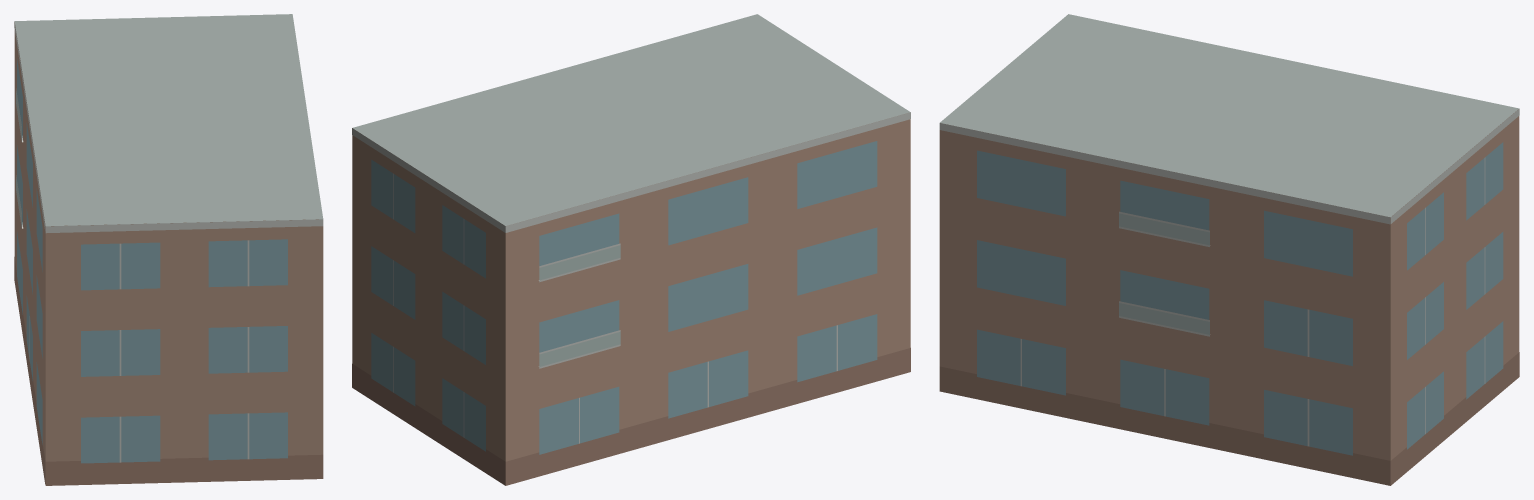
The model's file is survey-upis-32705007.glb.
3 views of the same model, side by side, from view 1: azimuth 30°, elevation 25°; view 2: azimuth 150°, elevation 25°; view 3: azimuth 270°, elevation 25° (orthographic). The views are drawn at different scales.
Parts seen in each view (by area): view 1: survey-upis-32705007.tmp; view 2: survey-upis-32705007.tmp; view 3: survey-upis-32705007.tmp.
Part boxes in pixels (x1,y1,x2,y2): survey-upis-32705007.tmp: (14, 14, 323, 485); survey-upis-32705007.tmp: (352, 14, 910, 485); survey-upis-32705007.tmp: (939, 14, 1519, 485).
Size of the model in its own units: 14.86 by 9.15 by 17.91.
